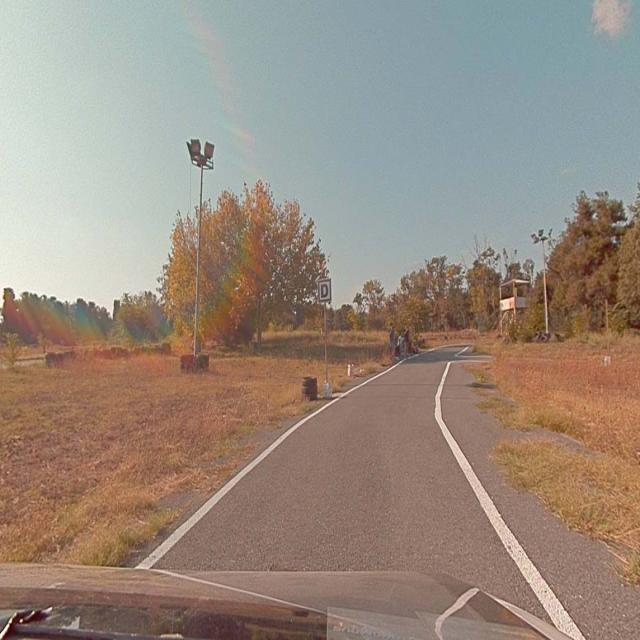durak: (318, 280, 331, 300)
